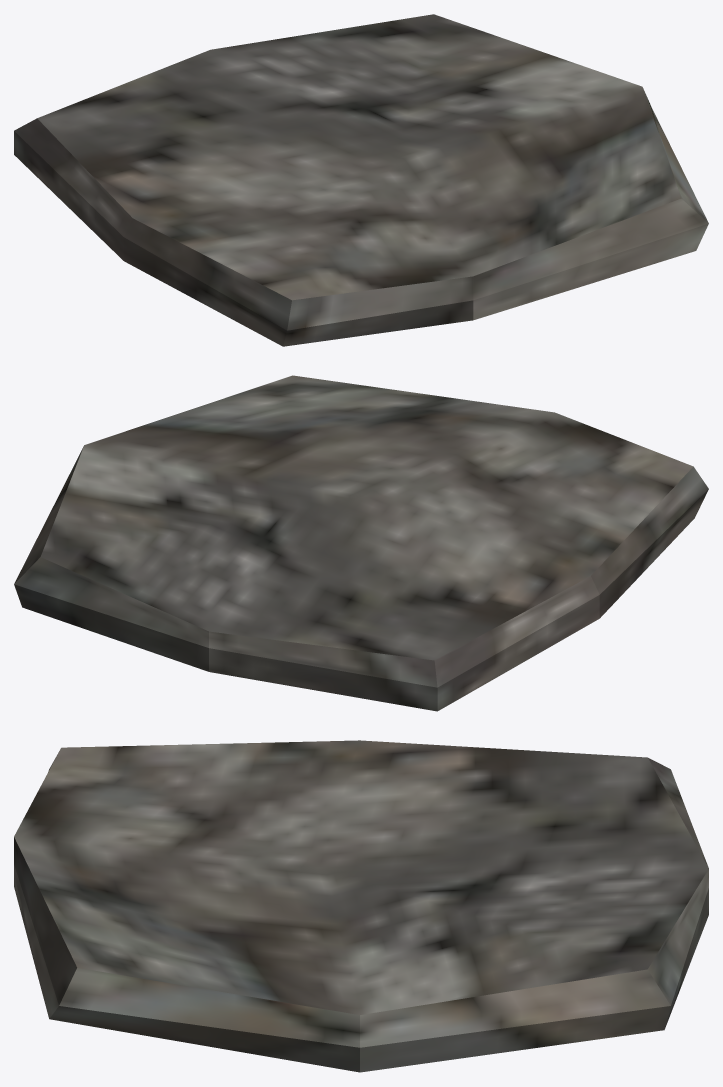
Rendered from platform01.glb.
The picture shows the model from 3 angles, top to bottom: view 1: azimuth 30°, elevation 25°; view 2: azimuth 150°, elevation 25°; view 3: azimuth 270°, elevation 25°; orthographic projection. The views are drawn at different scales.
Visible parts, largest first — view 1: Cube; view 2: Cube; view 3: Cube.
Boxes of the visible parts, x1=… form: Cube: x1=14, y1=14, x2=708, y2=346; Cube: x1=14, y1=375, x2=708, y2=711; Cube: x1=14, y1=740, x2=708, y2=1072.
Size of the model in its own units: 6.96 by 0.6048 by 6.97.
1 material, 1 textured.
